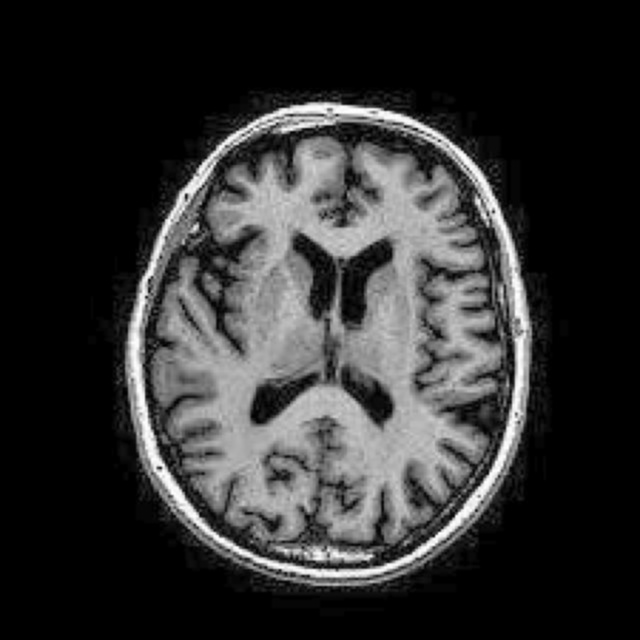glioma tumor: (214, 140, 466, 510)
